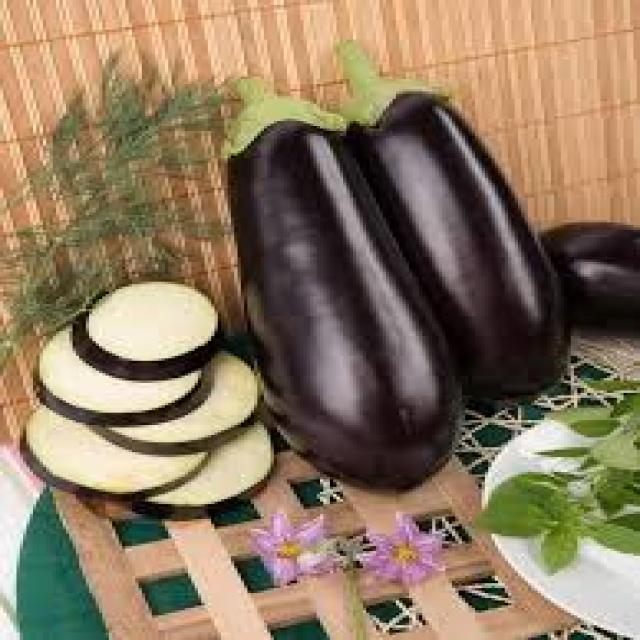eggplant: (188, 81, 453, 519), (310, 36, 591, 409), (0, 258, 291, 540), (520, 201, 640, 323)
